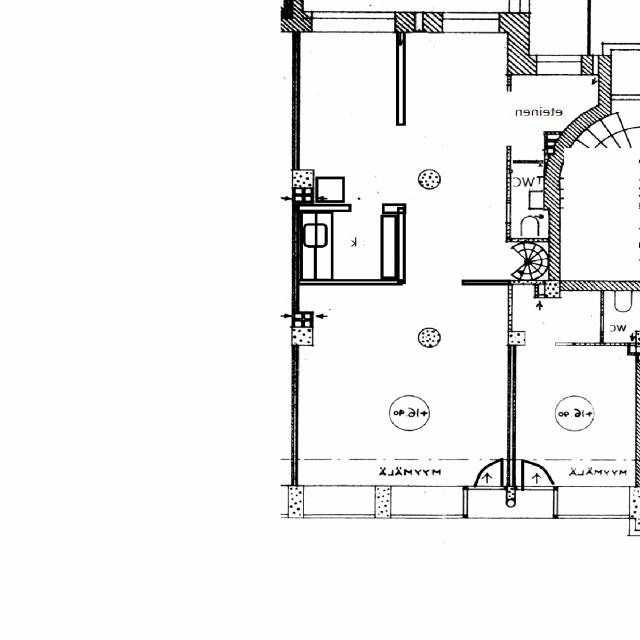door: (474, 461, 504, 489), (522, 461, 551, 489)
